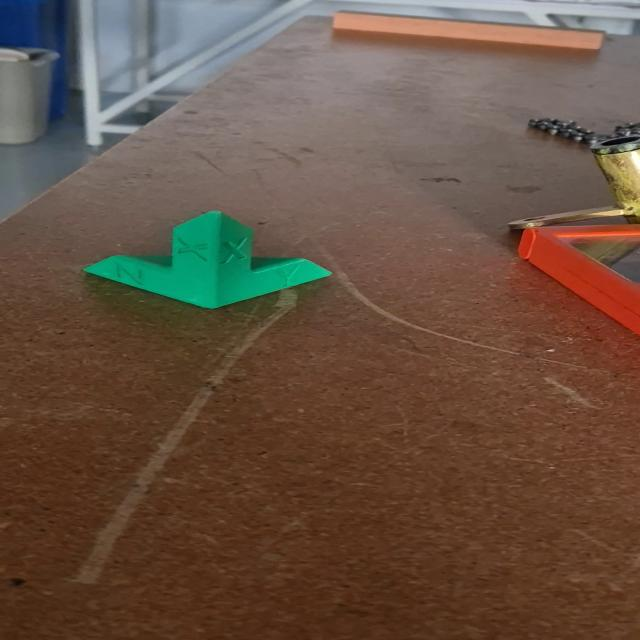objects: (80, 209, 334, 311)
